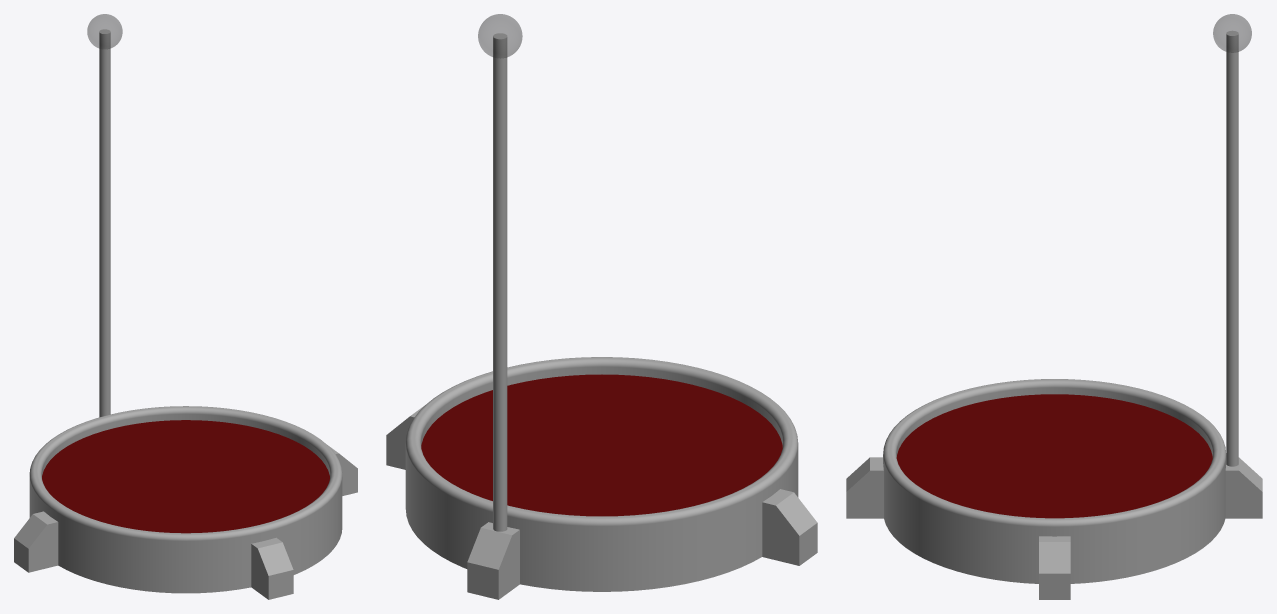
The picture shows the model from 3 angles, left to right: view 1: azimuth 30°, elevation 25°; view 2: azimuth 150°, elevation 25°; view 3: azimuth 270°, elevation 25°; orthographic projection. The views are drawn at different scales.
Visible parts, largest first — view 1: 合成, 柱状体, 球; view 2: 合成, 柱状体, 球; view 3: 合成, 柱状体, 球.
Boxes of the visible parts, x1,y1,x2,y2 form: 合成: (14,29,357,599); 柱状体: (42,420,329,533); 球: (87,14,122,48); 合成: (386,33,817,599); 柱状体: (421,374,782,516); 球: (478,14,522,58); 合成: (846,30,1262,599); 柱状体: (896,394,1212,518); 球: (1213,14,1251,52).
Size of the model in its own units: 790 by 1037 by 789.
